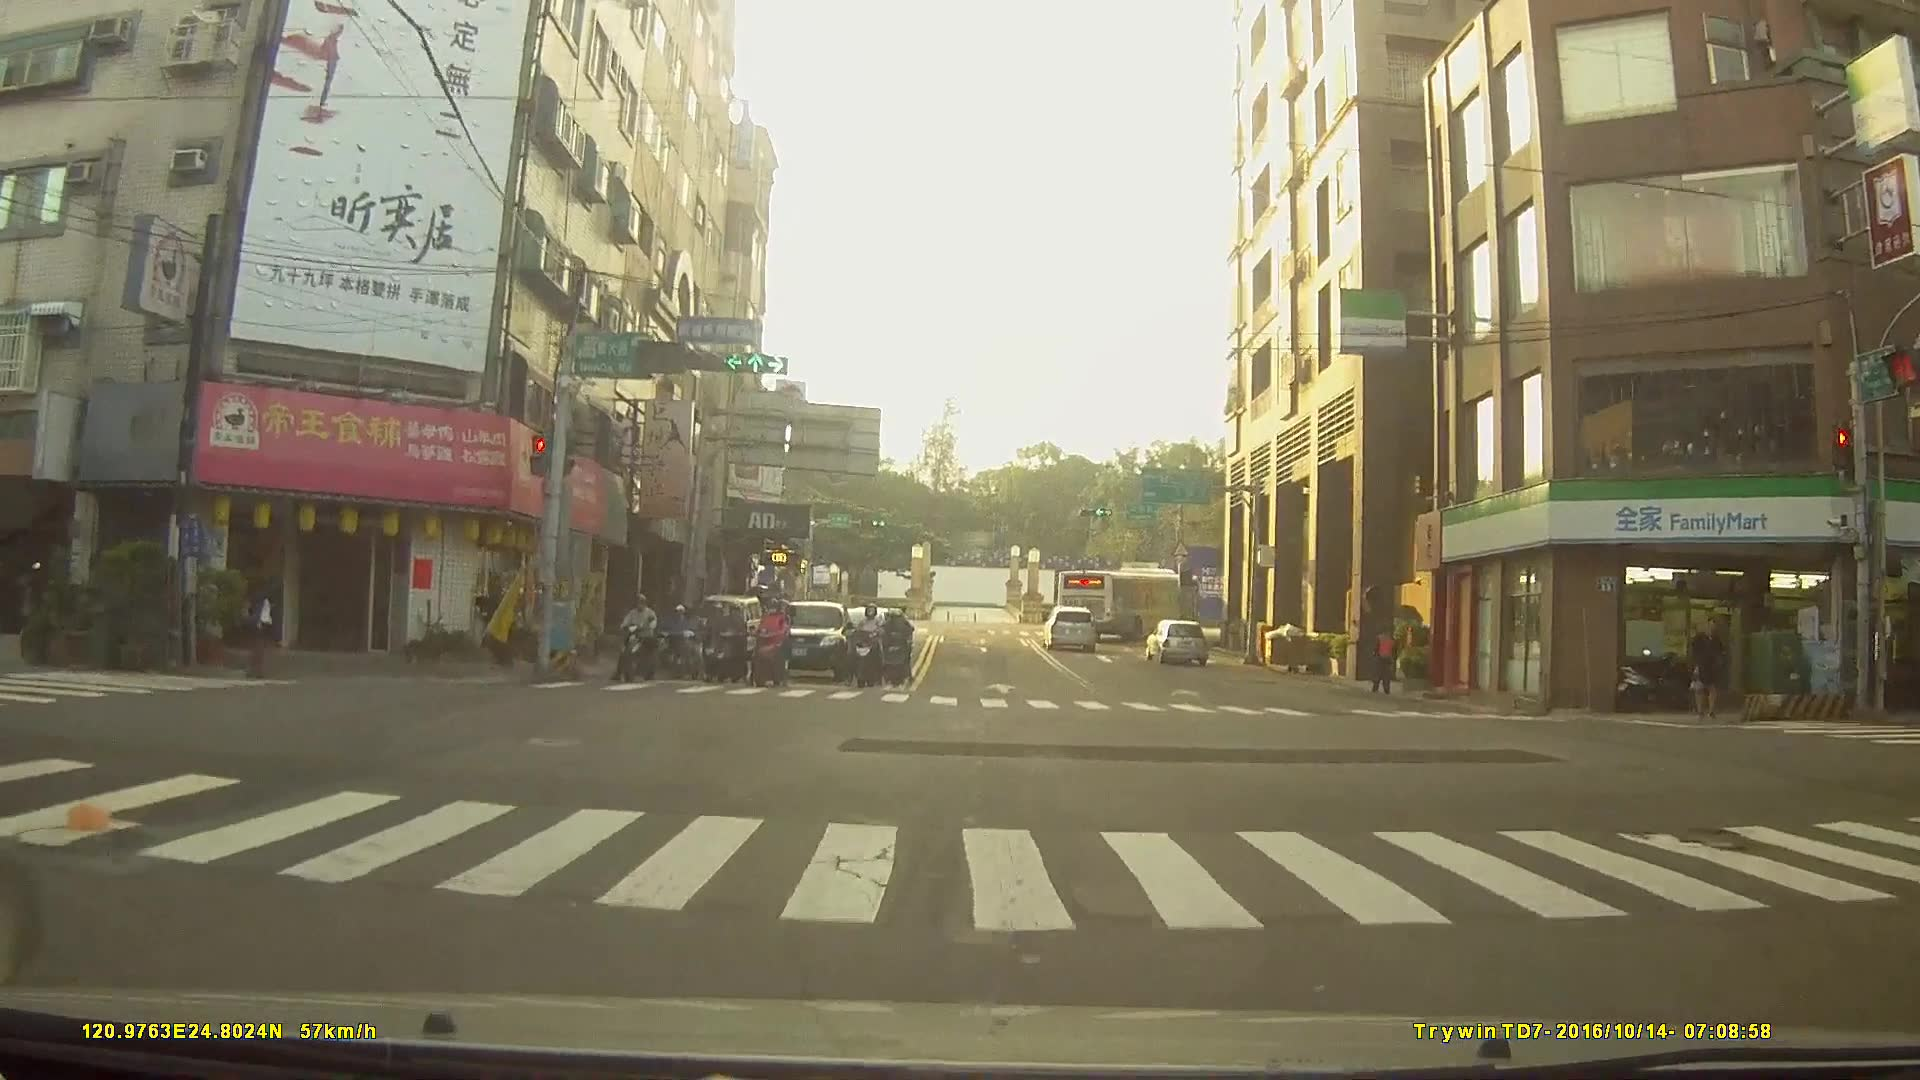pedestrian: (244, 582, 285, 684), (1689, 616, 1728, 725), (1369, 626, 1401, 697)
rider: (747, 592, 794, 691), (619, 595, 660, 689), (852, 601, 889, 687), (880, 606, 918, 687), (710, 601, 746, 681), (662, 600, 699, 676)
vehicle: (1052, 565, 1198, 638), (761, 599, 853, 679), (1142, 616, 1210, 663), (1041, 604, 1098, 653)
